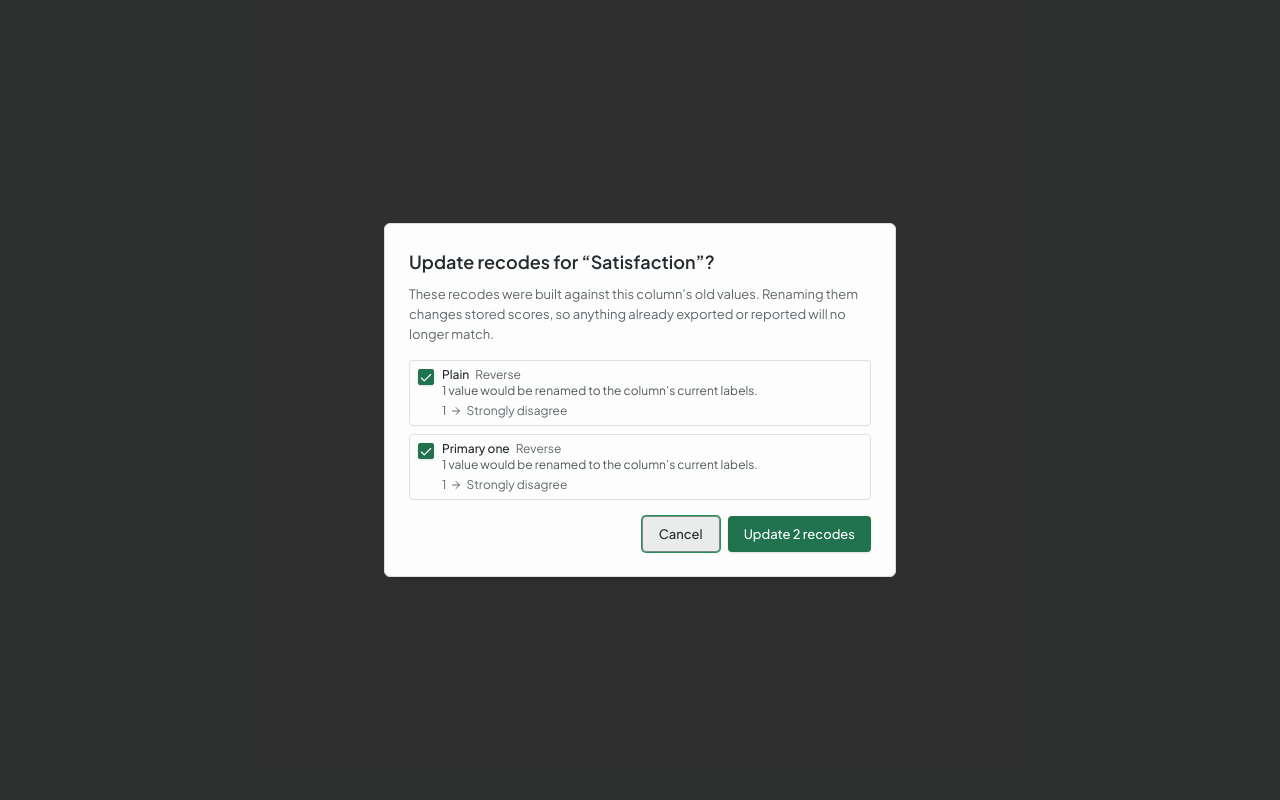
Test: the description does not contradict the rows › drops the warning when the primary row is unticked
The image size is (1280, 800).
Expected: the text "changes stored scores" is shown, [409,286,858,342]
Click the checkbox named "Update Primary one".
click(426, 451)  # box [418,443,434,459]
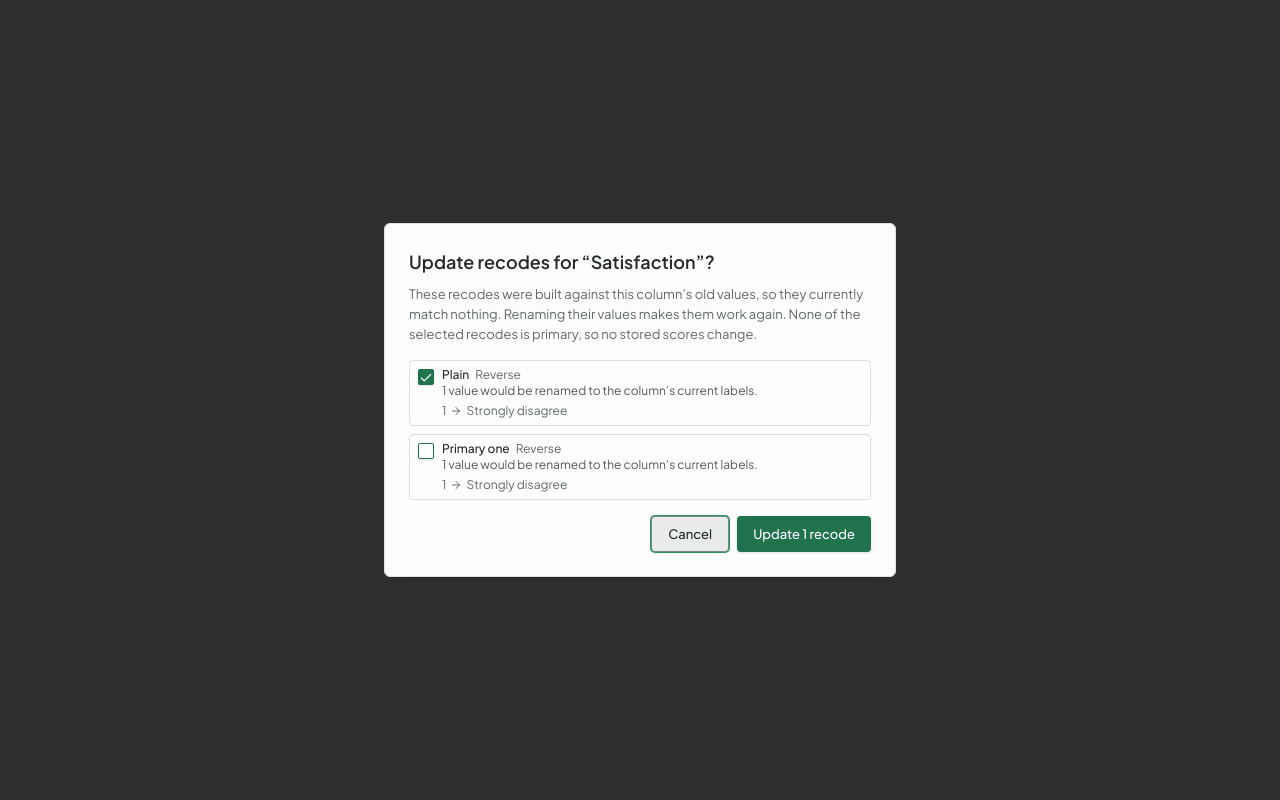
Now the text "no stored scores change" is shown, box [409,286,863,342]
